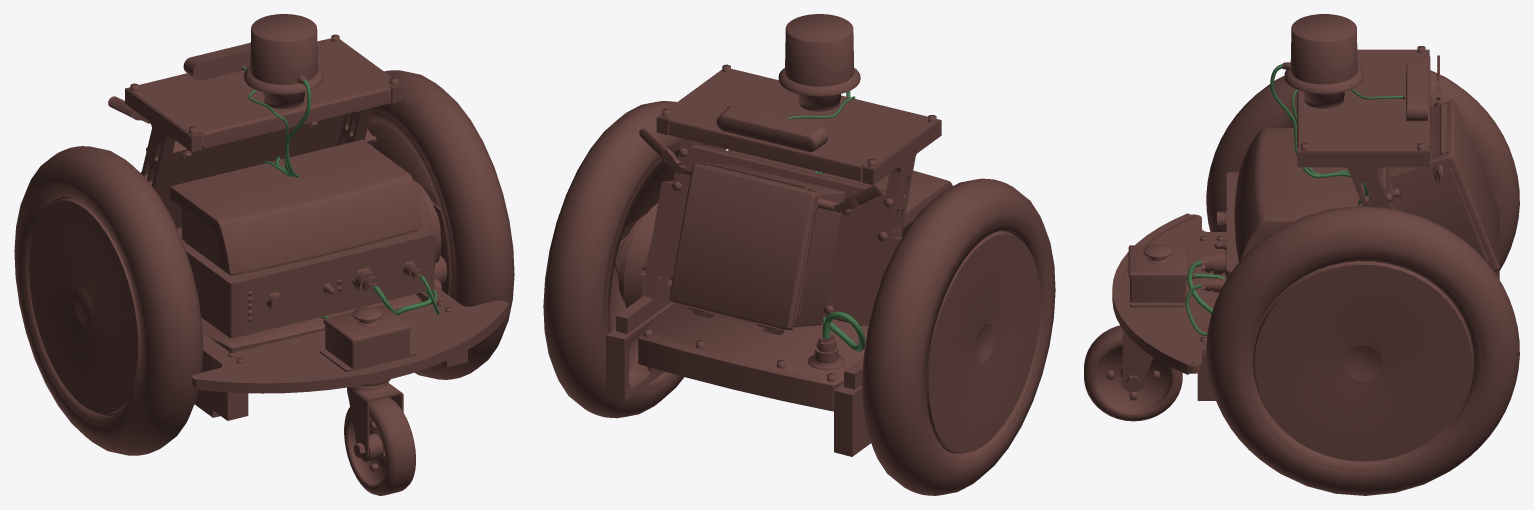
File: carter_LRwheels.FBX
3 views of the same model, side by side, from view 1: azimuth 30°, elevation 25°; view 2: azimuth 150°, elevation 25°; view 3: azimuth 270°, elevation 25° (orthographic). The views are drawn at different scales.
Visible parts, largest first — view 1: carter_main, carter_wheel_right, carter_wheel_left; view 2: carter_main, carter_wheel_right, carter_wheel_left; view 3: carter_wheel_left, carter_main, carter_wheel_right.
Part boxes in pixels (x1,y1,x2,y2): carter_main: [108, 14, 509, 495]; carter_wheel_right: [14, 146, 203, 455]; carter_wheel_left: [367, 70, 514, 379]; carter_main: [606, 14, 952, 456]; carter_wheel_right: [862, 178, 1055, 495]; carter_wheel_left: [543, 101, 726, 418]; carter_wheel_left: [1206, 206, 1519, 495]; carter_main: [1084, 14, 1499, 421]; carter_wheel_right: [1206, 70, 1519, 270].
Bounding box in the file's own units: 64.09 × 66.12 × 66.94.
